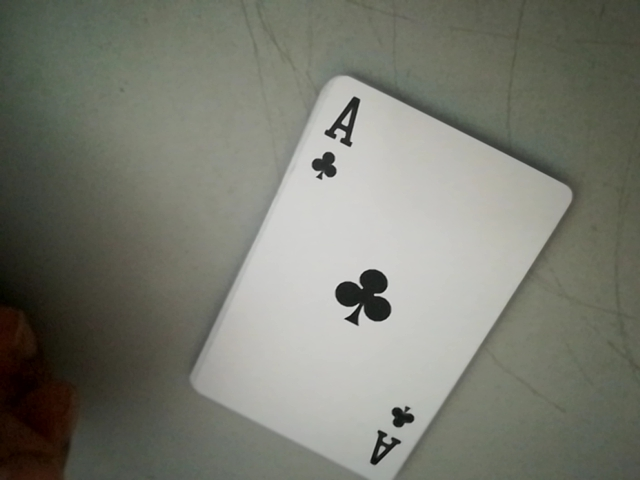mh a: (299, 88, 367, 192), (362, 398, 425, 480)
